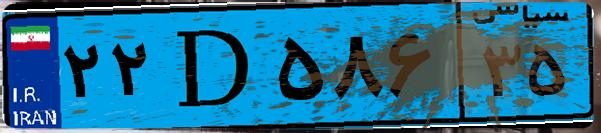2: (57, 26, 110, 100), (110, 28, 158, 98)
3: (475, 38, 525, 113)
5: (270, 28, 330, 110), (525, 38, 570, 115)
6: (385, 28, 445, 110)
8: (330, 28, 385, 110)
D: (158, 12, 270, 120)
